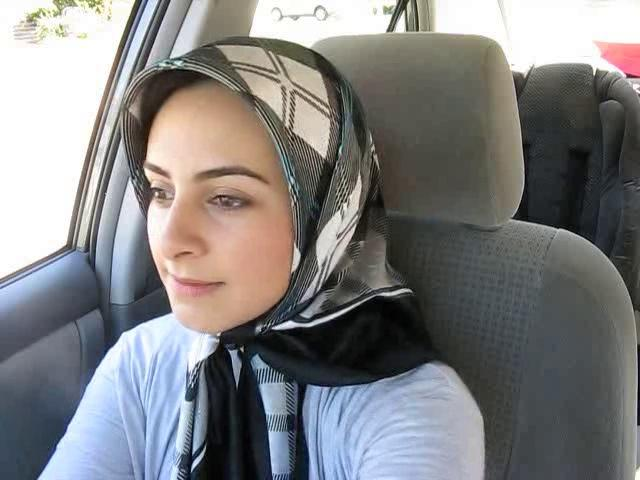no_yawn: (151, 264, 234, 305)
open_eyeL: (141, 177, 181, 212)
open_eyeR: (197, 185, 258, 219)
